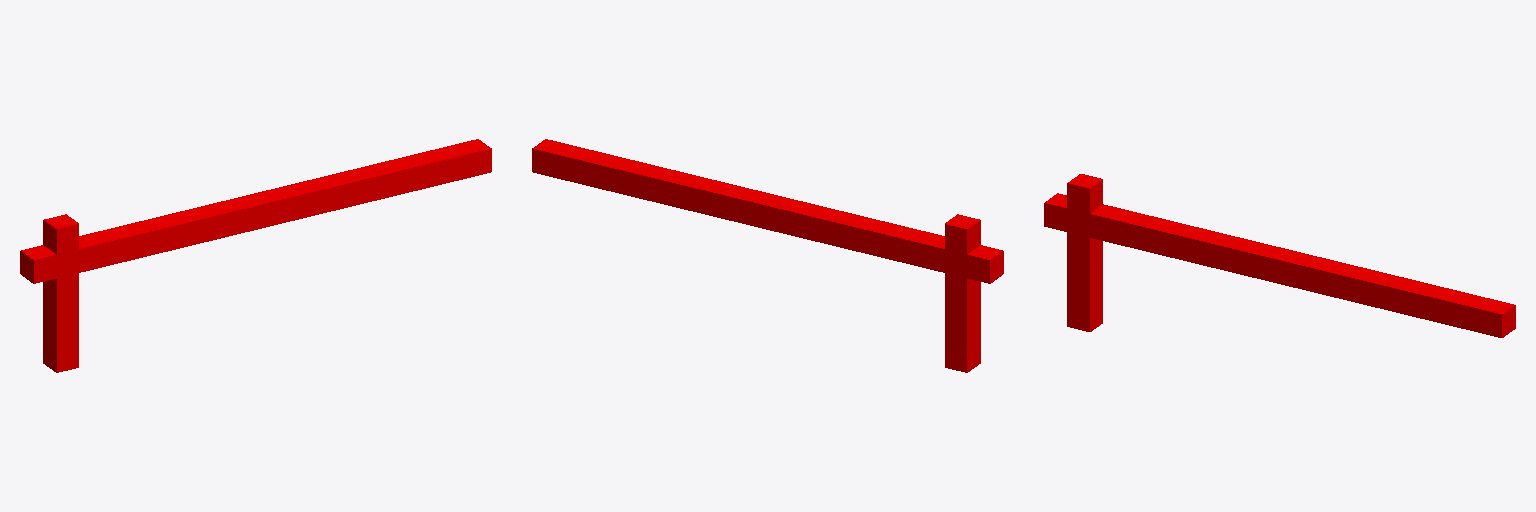
The robot description file, URDF, robot "bar":
<?xml version="1.0"?>

<robot name="bar">

    <material name="red">
        <color rgba="1 0 0 1" />
    </material>

    <link name="base_link">

        <inertial>
            <origin rpy="0 0 0" xyz="0 0 0" />
            <mass value="1.0" />
            <inertia ixx="1.0" ixy="0.0" ixz="0.0"
            iyy="0.0" iyz="0.0" izz="1.0" />

        </inertial>
        <visual>        
            <origin rpy="0 0 0" xyz="0 0 0" />
            <geometry>
                <box size="0.1 0.1 0.6" />
            </geometry>
            <material name="red"/>
        </visual>

        <collision>
            <origin rpy="0 0 0" xyz="0 0 0" />
            <geometry>
             <box size="0.1 0.1 0.6" />
            </geometry>
        </collision>

    </link>

    <link name="body_link">
        <visual>        
            <origin rpy="0 0 0" xyz="0.85 0 0" />
            <geometry>
                <box size="2 0.1 0.1" />
            </geometry>
            <material name="red"/>
        </visual>

        <collision>
            <origin rpy="0 0 0" xyz="0.85 0 0" />
            <geometry>
             <box size="2 0.1 0.1" /> <!-- Preguntar ALTURA DEL CHASSIS ESPECIFICACION POSIBILIDAD DE SUSPENSO-->
            </geometry>
        </collision>

    </link>

    <joint name="base_to_body" type="revolute">
        <parent link="base_link" />
        <child link="body_link" />
        <origin xyz="0 0 0.14493" />
        <axis xyz="0 0 1" /> <!--Rotation on Z axis-->

        <limit lower="0" upper="1.5708" effort="10.0" velocity="0.5" /> <!--Permitted rotation on 90 degrees range-->
    </joint>


</robot>

--- What the picture shows (computed from the rendered views, not written in the file) ---
Views: 3 orthographic renders of the robot side by side, from view 1: azimuth 30°, elevation 25°; view 2: azimuth 150°, elevation 25°; view 3: azimuth 330°, elevation 25°.
Robot: bar — 2 links, 1 joints (1 revolute); root link base_link; default pose: every joint at zero.
Links seen in each view (by area): view 1: body_link, base_link; view 2: body_link, base_link; view 3: body_link, base_link.
Link boxes in pixels (<box>): body_link: <box>20,139,491,283</box>; base_link: <box>43,214,78,372</box>; body_link: <box>532,139,1003,283</box>; base_link: <box>945,214,980,372</box>; body_link: <box>1044,193,1515,337</box>; base_link: <box>1067,174,1102,331</box>.
Bounding box of the posed robot: 2 × 0.1 × 0.6 m (x, y, z).
Geometry: primitives only (box / cylinder / sphere), no mesh files.
